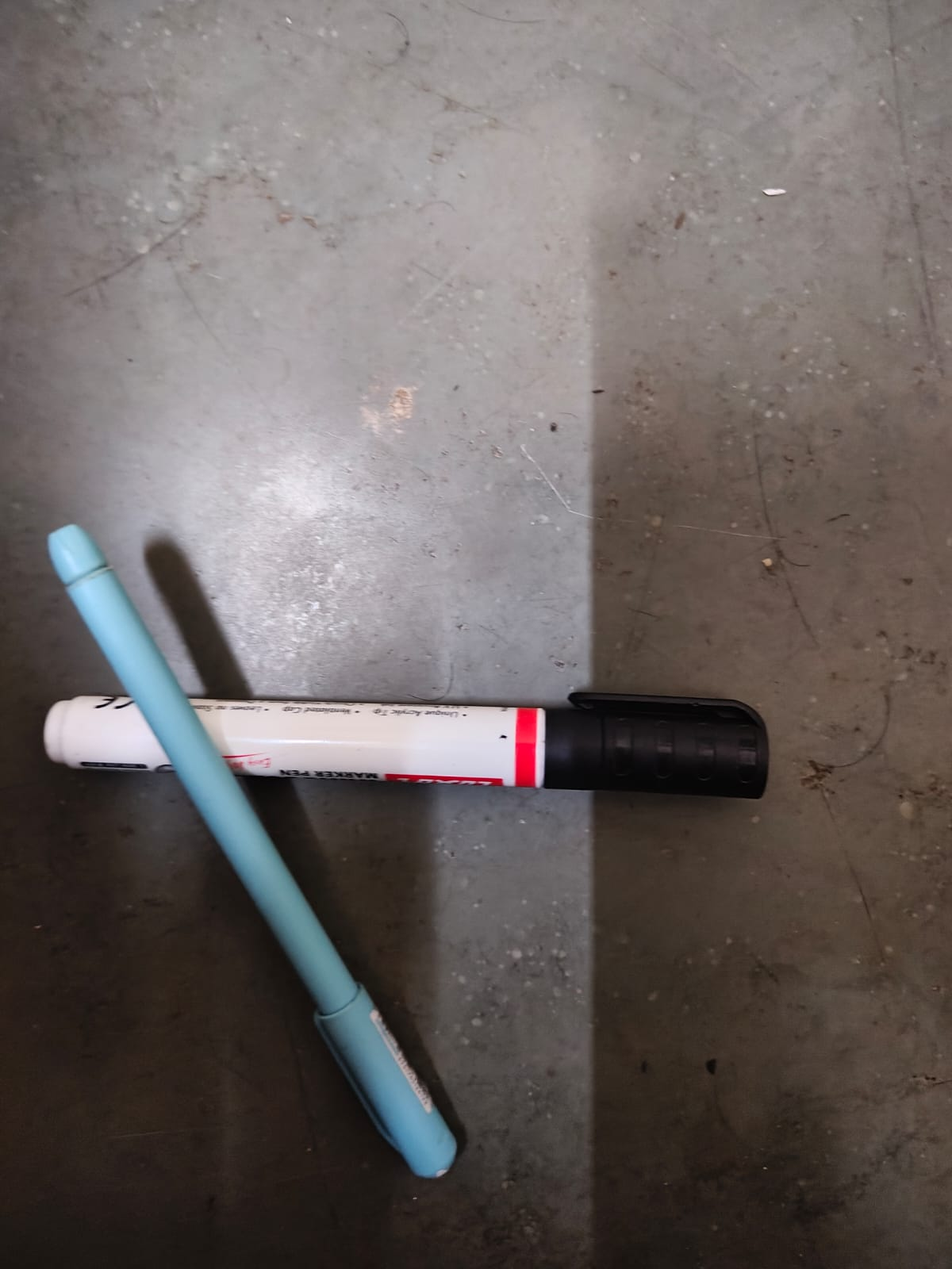case: (25, 672, 808, 843)
pen: (41, 516, 473, 1218)
